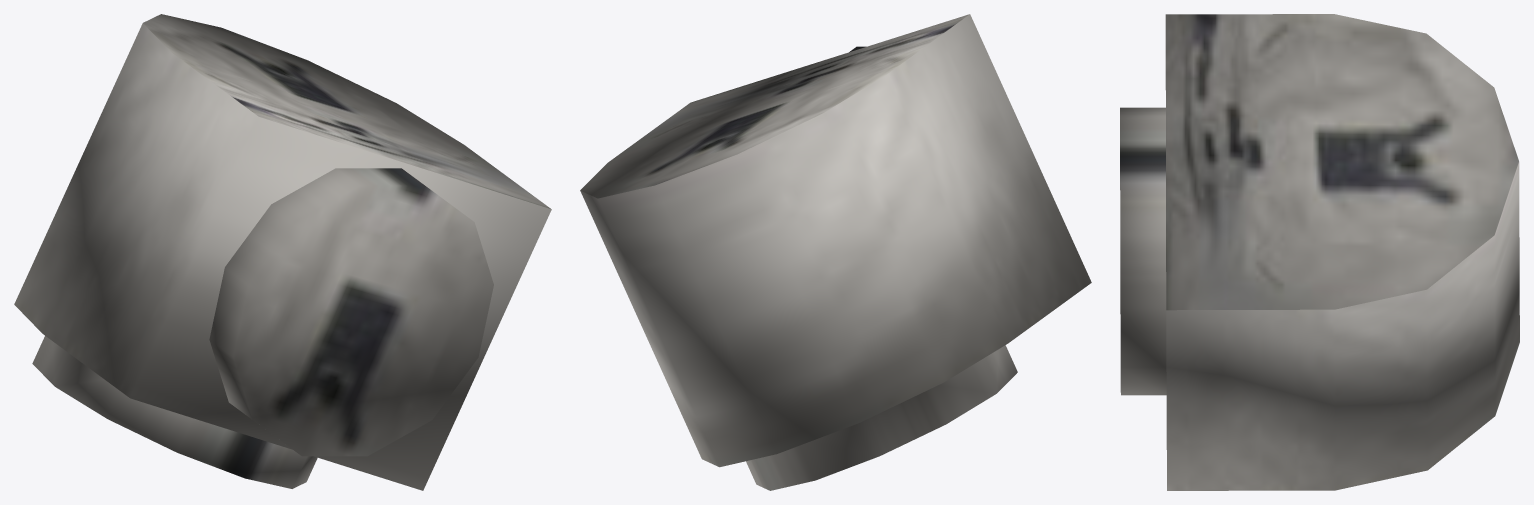
The picture shows the model from 3 angles, left to right: view 1: azimuth 30°, elevation 25°; view 2: azimuth 150°, elevation 25°; view 3: azimuth 270°, elevation 25°; orthographic projection. The views are drawn at different scales.
Visible parts, largest first — view 1: 11 Canadarm2_03; view 2: 11 Canadarm2_03; view 3: 11 Canadarm2_03.
Boxes of the visible parts, <box> form: 11 Canadarm2_03: <box>14,14,551,490</box>; 11 Canadarm2_03: <box>580,14,1091,490</box>; 11 Canadarm2_03: <box>1120,14,1519,490</box>.
Bounding box in the file's own units: 0.6845 × 0.5847 × 0.6754.
1 material, 1 textured.
